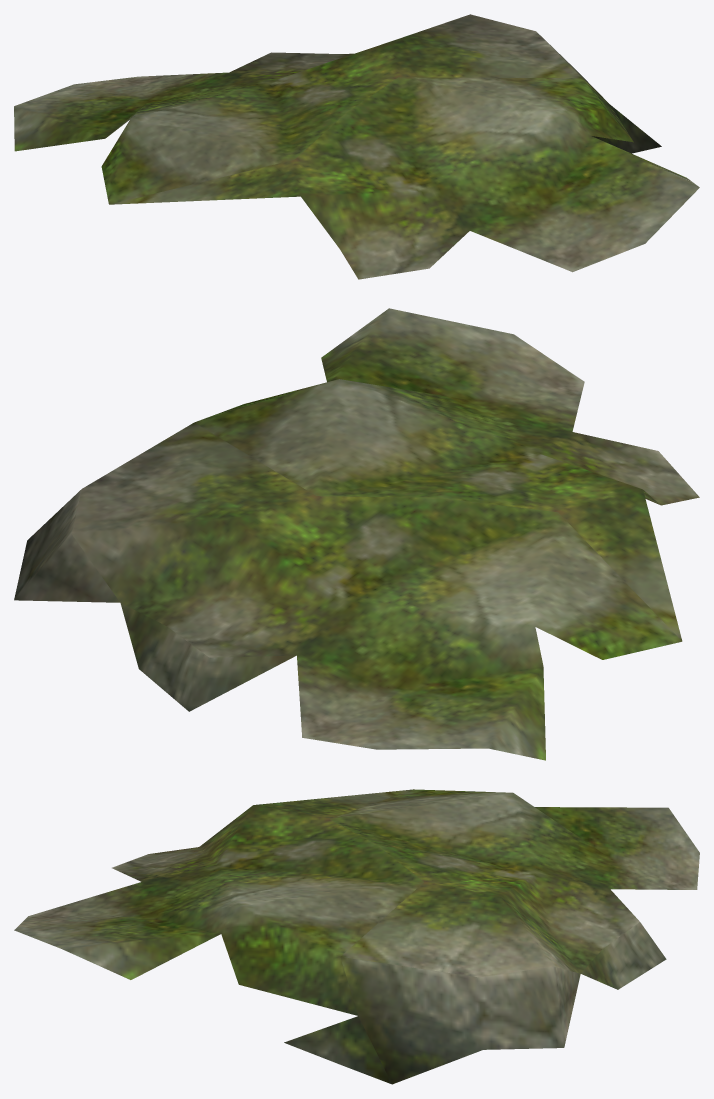
File: S_Rock_Green042_A2.FBX
3 renders of one model, top to bottom at view 1: azimuth 30°, elevation 25°; view 2: azimuth 150°, elevation 25°; view 3: azimuth 270°, elevation 25°, orthographic. The views are drawn at different scales.
Visible parts, largest first — view 1: S_Rock_Green042_A2; view 2: S_Rock_Green042_A2; view 3: S_Rock_Green042_A2.
Boxes of the visible parts, box(x1,y1,x2,y2) form: S_Rock_Green042_A2: box(14, 14, 699, 279); S_Rock_Green042_A2: box(14, 308, 699, 760); S_Rock_Green042_A2: box(14, 789, 699, 1084).
Bounding box in the file's own units: 860 × 204 × 1012.
